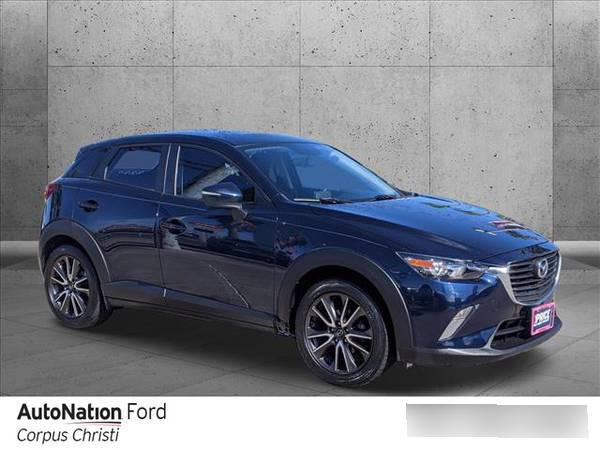Front_Bumper: (377, 270, 562, 366)
Front_Fender: (274, 195, 410, 333)
Front_Right_Door: (159, 196, 275, 332)
Front_Right_Window: (162, 144, 273, 210)
Front_Windshield: (238, 141, 409, 202)
Grille: (494, 248, 560, 307)
Hood: (297, 193, 554, 266)
Rear_Fender: (37, 148, 112, 260)
Rear_Right_Door: (70, 179, 166, 308)
Rear_Right_Window: (90, 144, 172, 191)
Right_Headlight: (399, 252, 496, 282)
Roof: (65, 127, 323, 203)
Wheel: (293, 272, 391, 380), (38, 245, 99, 326)
